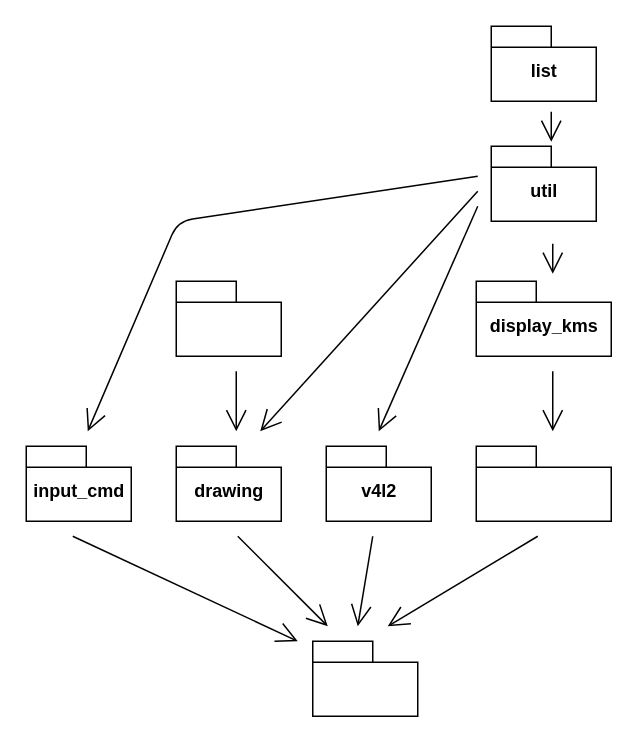
Some shapes in this 638 by 743 pixel diagram are drawn without their labels. Here are the shapes that lost their labels. From the top down, the centre of each, then its label:
(228,318): font_8x8
(543,483): vpe-common
(364,678): main
